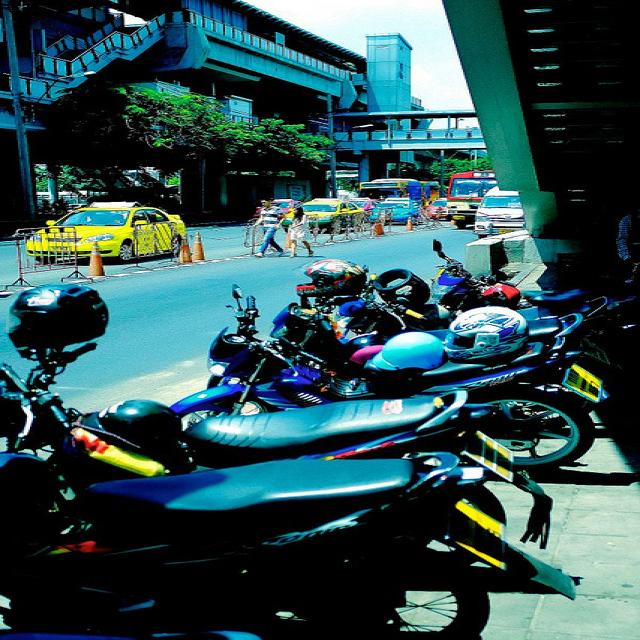motor: (0, 324, 588, 632), (1, 284, 550, 524), (172, 282, 603, 470), (267, 282, 625, 393), (298, 255, 620, 342)
